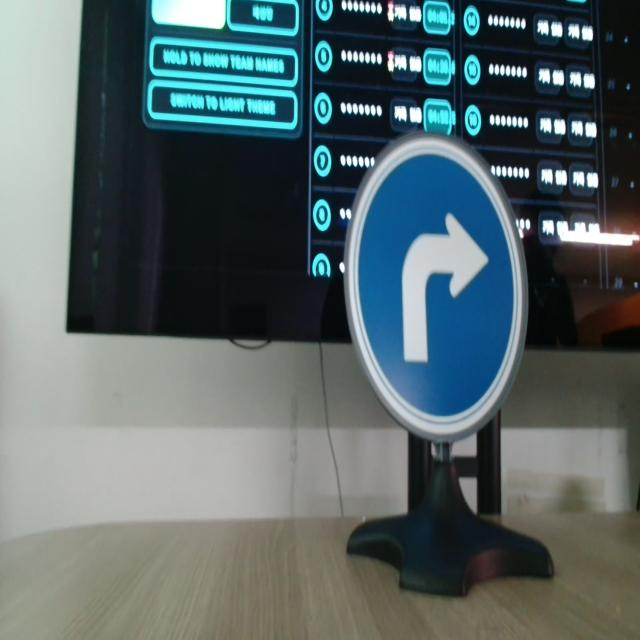right_dierection: (342, 108, 541, 445)
